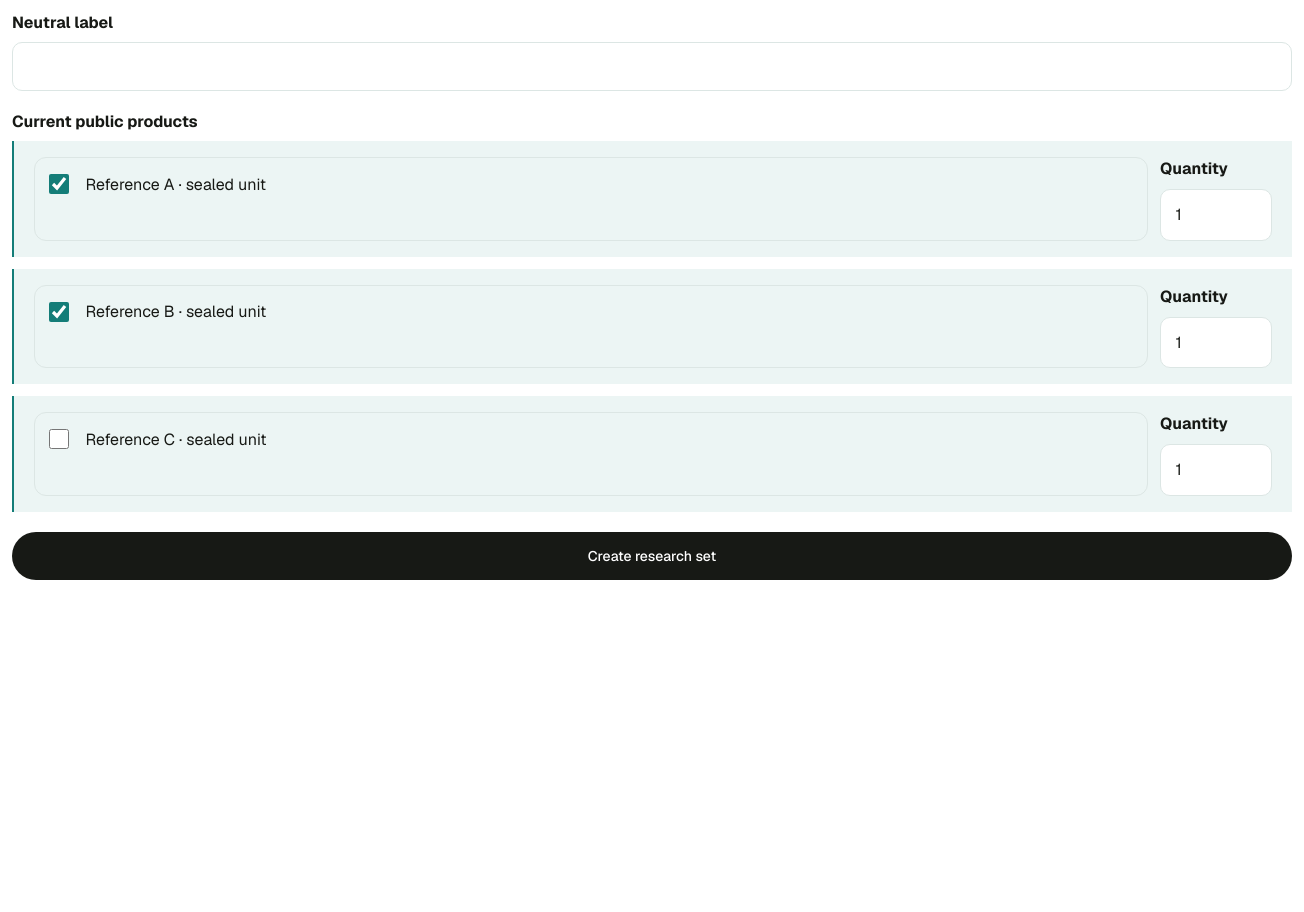
Scenario: SharedSetBuilder › announces success politely and submits only the allowed browser fields
This screenshot has width=1304, height=912.
In the field labelled "Neutral label": (652, 67) [12, 42, 1292, 91], type "Neutral set"
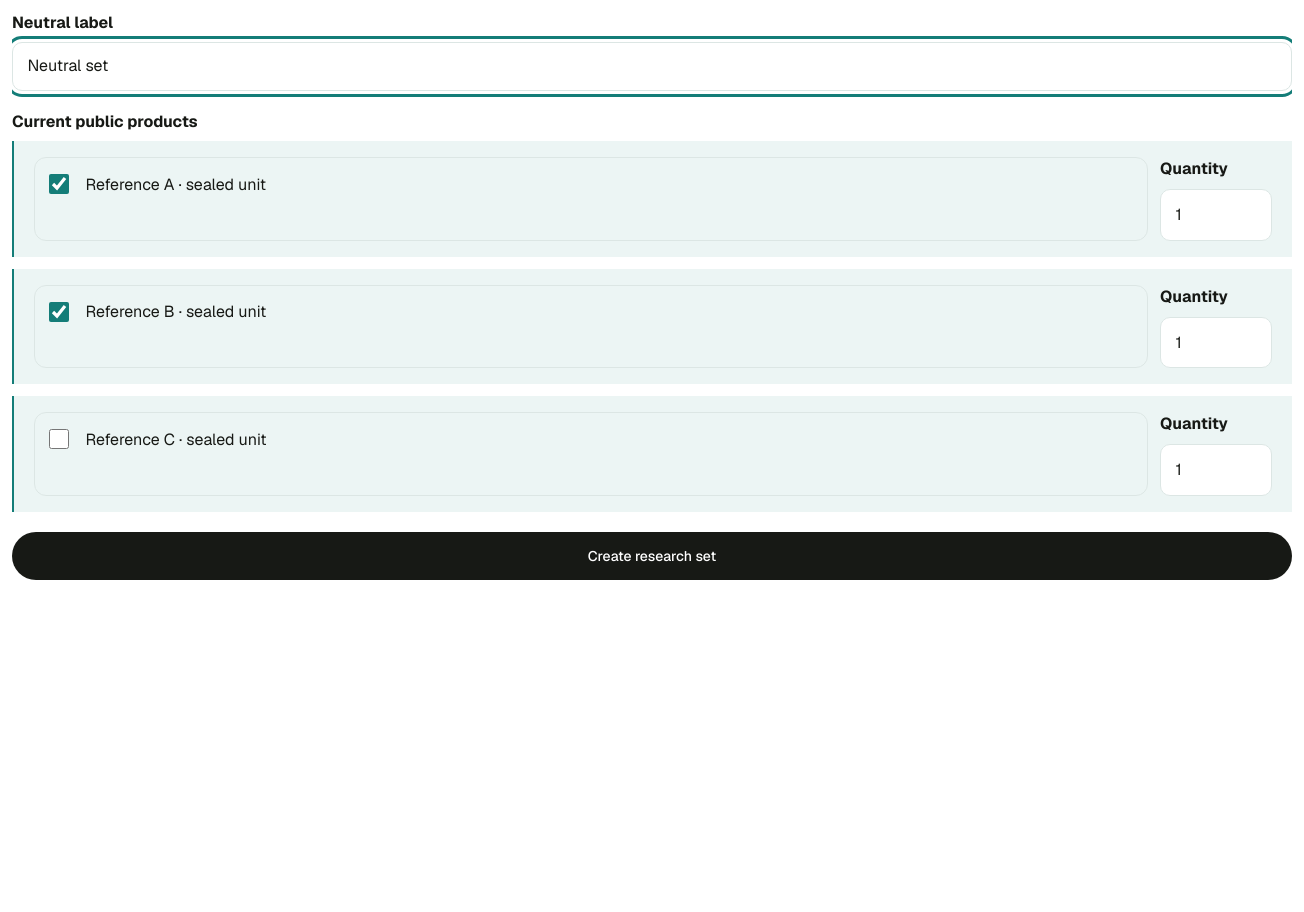
Click the button "Create research set": (652, 556) [12, 532, 1292, 580]
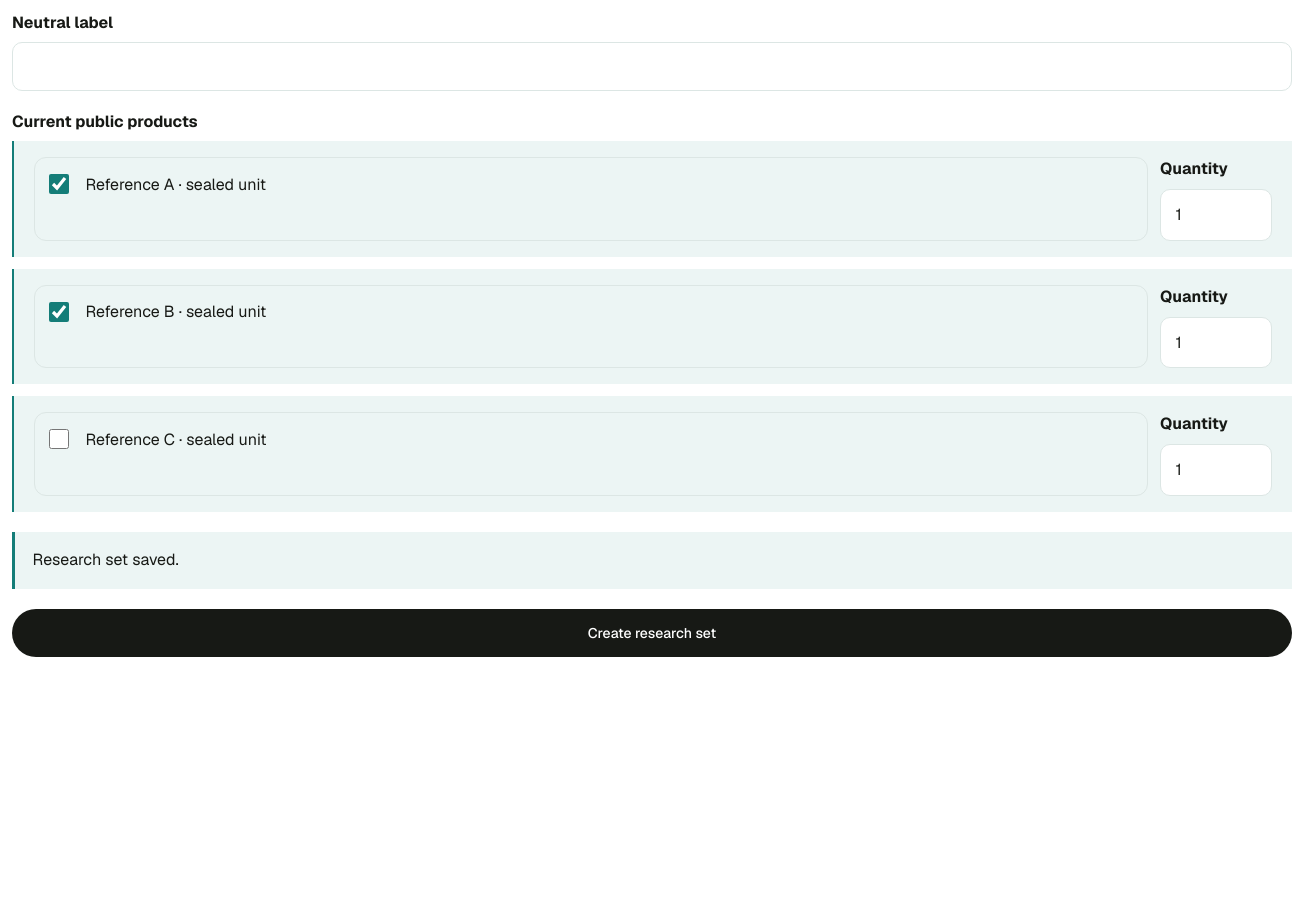
Check: the message reads "Research set saved.", box [33, 549, 179, 570]
